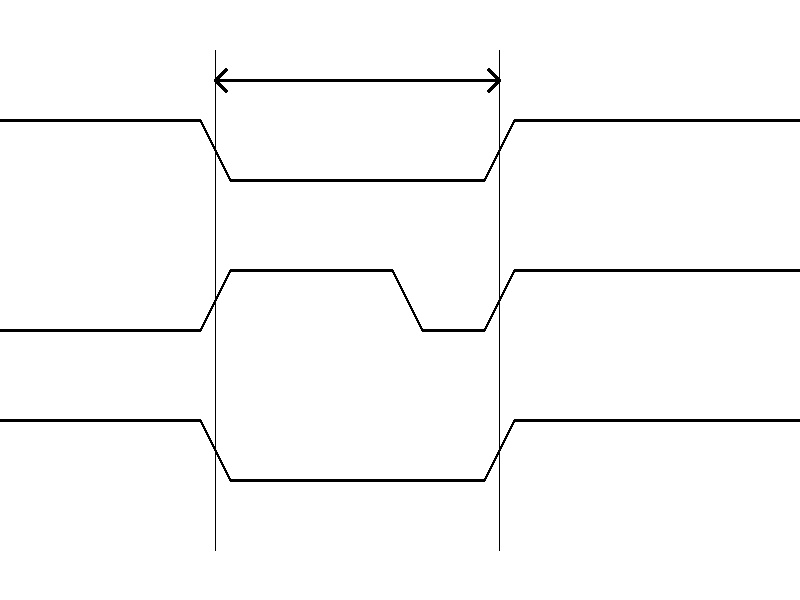double_arrow: (215, 65, 499, 95)
